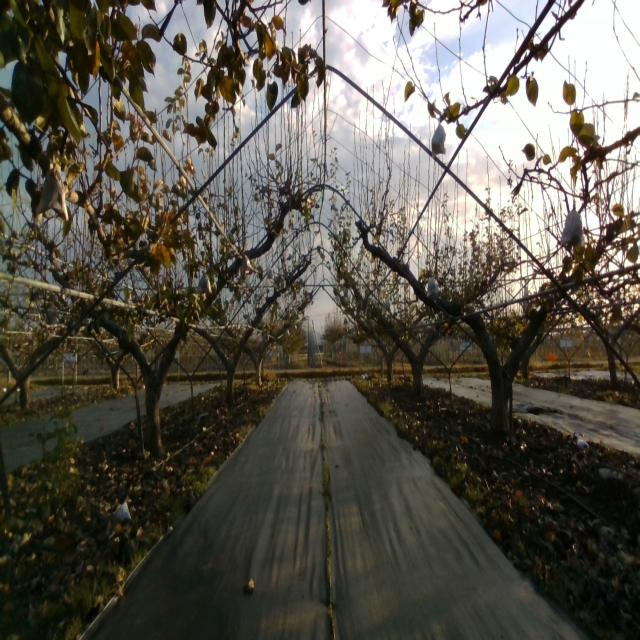pearbags: (36, 162, 69, 222), (560, 202, 583, 248), (430, 118, 446, 158), (240, 253, 254, 276), (197, 273, 212, 294), (426, 277, 439, 297)
